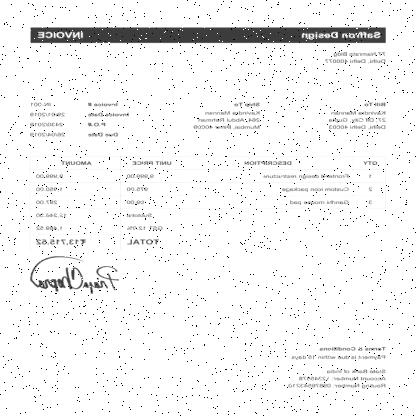Paragraph: (30, 210, 166, 250), (286, 346, 388, 390), (26, 100, 132, 140), (192, 101, 262, 130), (327, 101, 387, 131), (324, 51, 388, 64), (300, 30, 382, 40), (36, 31, 84, 39)
Table: (30, 155, 386, 209)
